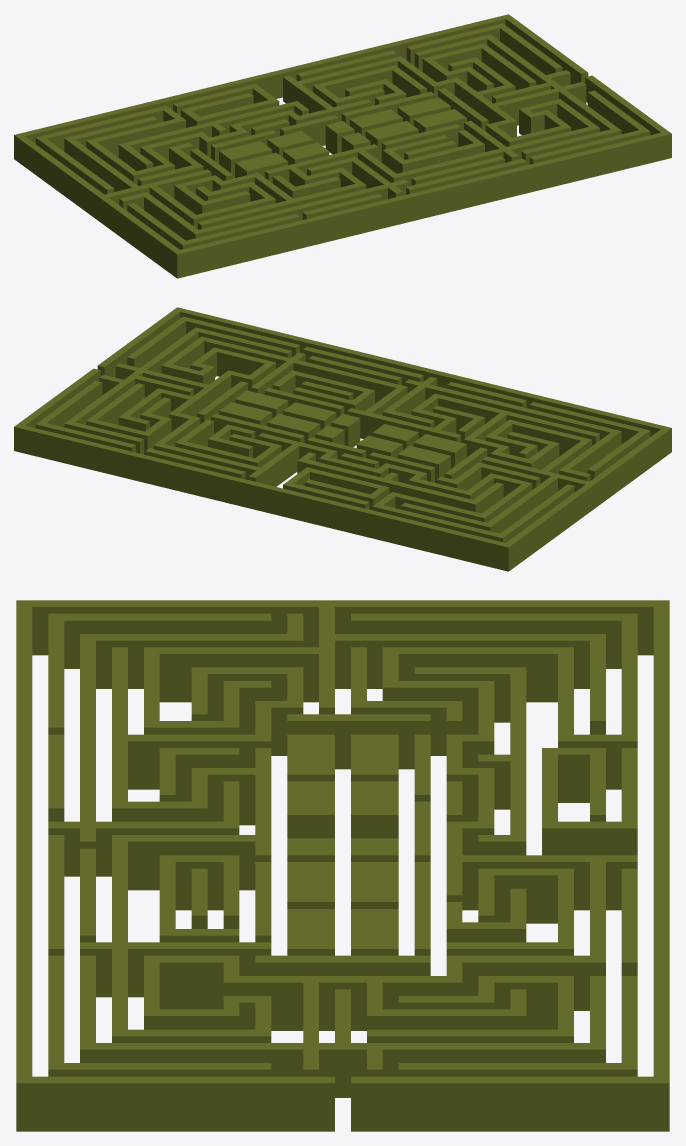
The model's file is Labyrinth.fbx.
3 views of the same model, one above another, from view 1: azimuth 30°, elevation 25°; view 2: azimuth 150°, elevation 25°; view 3: azimuth 270°, elevation 25° (orthographic). The views are drawn at different scales.
Parts seen in each view (by area): view 1: Plane.001; view 2: Plane.001; view 3: Plane.001.
Part boxes in pixels (box(x1,y1,x2,y2)): Plane.001: box(14, 14, 671, 278); Plane.001: box(14, 307, 671, 571); Plane.001: box(16, 600, 669, 1131).
Bounding box in the file's own units: 4280 × 209 × 2447.
